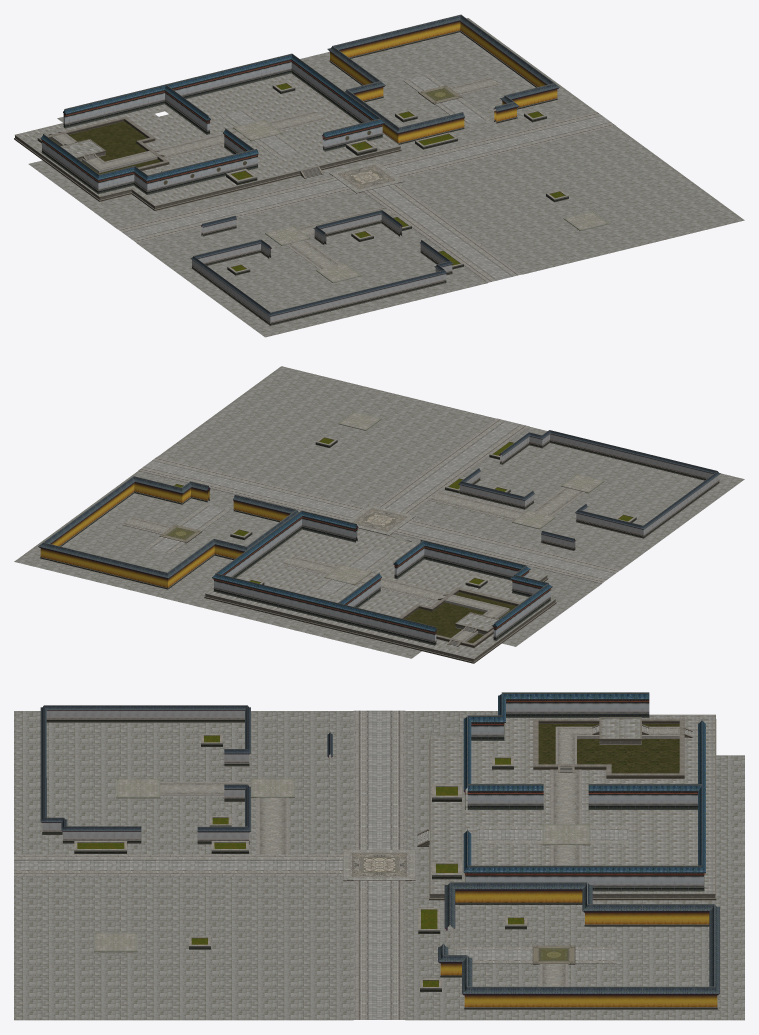
File: Maincity06_Building_diji.FBX
3 views of the same model, one above another, from view 1: azimuth 30°, elevation 25°; view 2: azimuth 150°, elevation 25°; view 3: azimuth 270°, elevation 25° (orthographic). The views are drawn at different scales.
Visible parts, largest first — view 1: Object346, HYC_jianzhu_05_01, Object162, YZC_CZF_A_04_013, Object281, YZC_CZF_A_05_004, Object348, tu, YZC_CZF_A_04_008; view 2: Object346, HYC_jianzhu_05_01, Object162, YZC_CZF_A_04_013, Object281, YZC_CZF_A_05_004, tu, Object348, YZC_CZF_A_04_008; view 3: Object346, HYC_jianzhu_05_01, Object162, YZC_CZF_A_05_004, Object281, YZC_CZF_A_04_013, Object348, tu, YZC_CZF_A_04_008, Object350.
Boxes of the visible parts, bbox=[...] form: Object346: bbox=[16, 18, 744, 337]; HYC_jianzhu_05_01: bbox=[14, 74, 615, 282]; Object162: bbox=[327, 14, 559, 144]; YZC_CZF_A_04_013: bbox=[63, 53, 384, 151]; Object281: bbox=[190, 210, 453, 325]; YZC_CZF_A_05_004: bbox=[40, 85, 258, 194]; Object348: bbox=[161, 81, 568, 275]; tu: bbox=[51, 121, 160, 174]; YZC_CZF_A_04_008: bbox=[42, 60, 382, 184]; Object346: bbox=[14, 366, 744, 658]; HYC_jianzhu_05_01: bbox=[122, 412, 620, 663]; Object162: bbox=[38, 476, 298, 589]; YZC_CZF_A_04_013: bbox=[212, 510, 437, 645]; Object281: bbox=[458, 430, 720, 550]; YZC_CZF_A_05_004: bbox=[338, 539, 552, 640]; tu: bbox=[405, 592, 516, 643]; Object348: bbox=[172, 436, 636, 588]; YZC_CZF_A_04_008: bbox=[214, 516, 549, 633]; Object346: bbox=[14, 711, 744, 1020]; HYC_jianzhu_05_01: bbox=[14, 710, 716, 1019]; Object162: bbox=[438, 882, 719, 1009]; YZC_CZF_A_05_004: bbox=[463, 692, 701, 809]; Object281: bbox=[40, 705, 332, 844]; YZC_CZF_A_04_013: bbox=[463, 719, 705, 891]; Object348: bbox=[74, 734, 526, 991]; tu: bbox=[538, 724, 679, 773]; YZC_CZF_A_04_008: bbox=[465, 700, 703, 874]; Object350: bbox=[590, 826, 629, 843].
Bounding box in the file's own units: 20111 × 955 × 20085.
